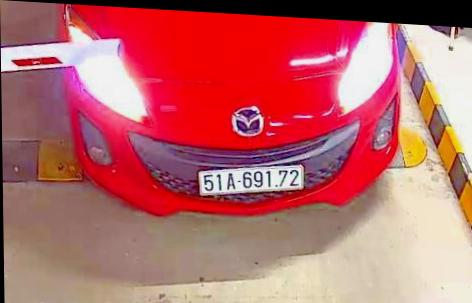License_Plate: (195, 161, 306, 200)
